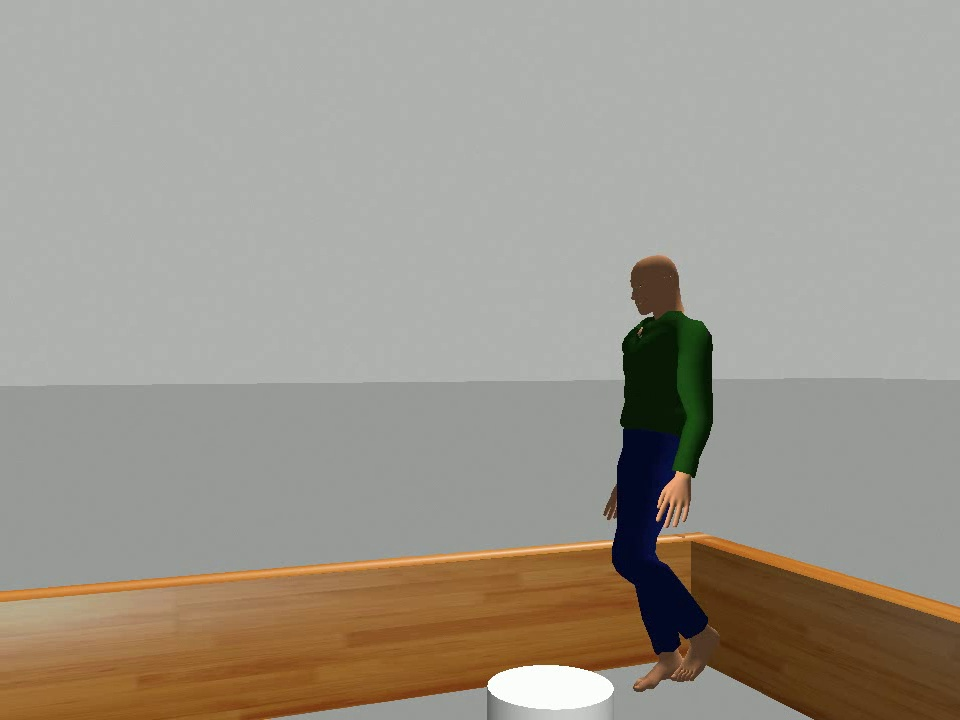person: (600, 253, 727, 694)
